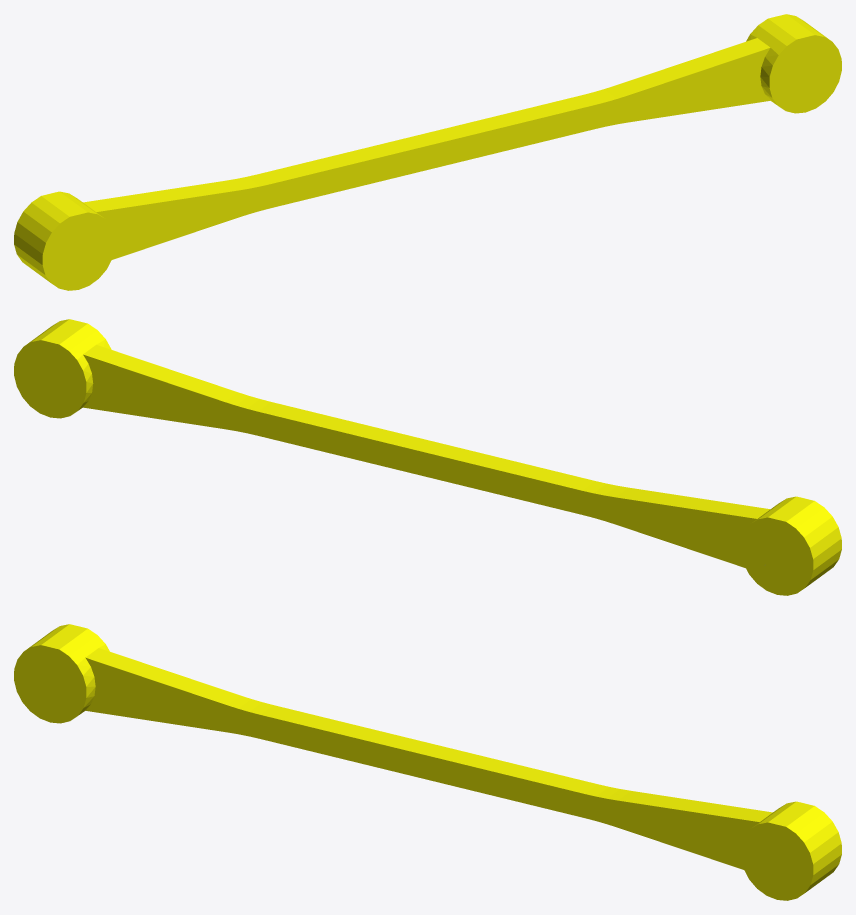
The picture shows the model from 3 angles, top to bottom: view 1: azimuth 30°, elevation 25°; view 2: azimuth 150°, elevation 25°; view 3: azimuth 330°, elevation 25°; orthographic projection.
Visible parts, largest first — view 1: node; view 2: node; view 3: node.
Part boxes in pixels (x1=…): node: x1=14, y1=14, x2=841, y2=290; node: x1=14, y1=319, x2=841, y2=595; node: x1=14, y1=624, x2=841, y2=900.
Size of the model in its own units: 1039 by 93.5 by 91.
